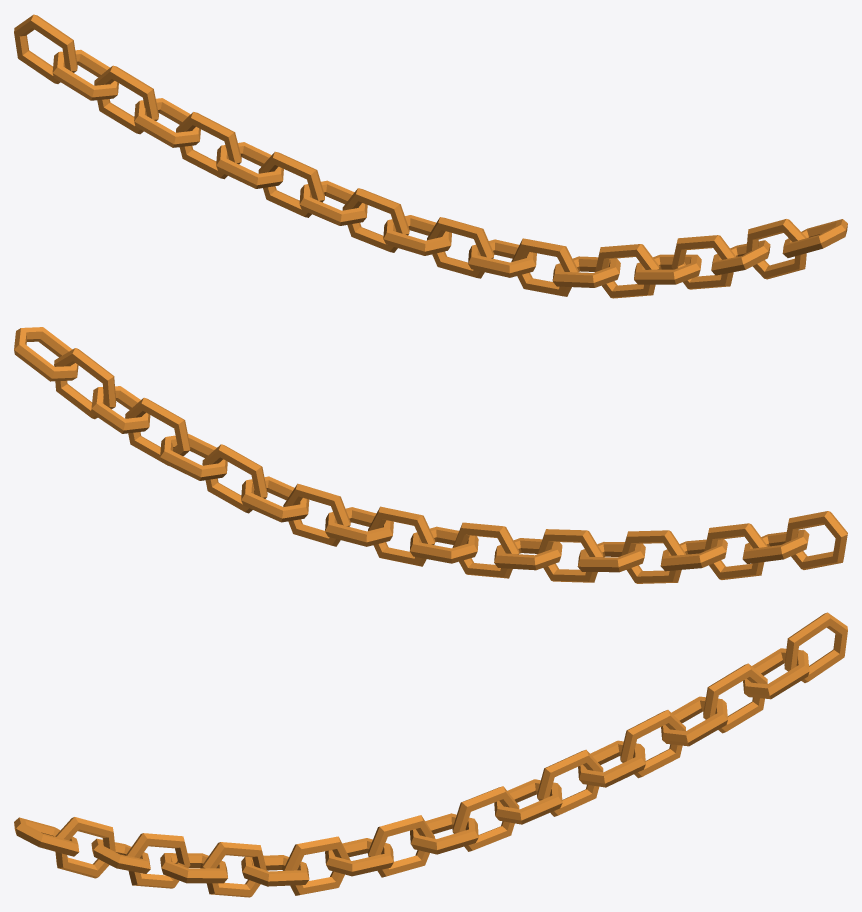
File: Cadena.fbx
3 views of the same model, one above another, from view 1: azimuth 30°, elevation 25°; view 2: azimuth 210°, elevation 25°; view 3: azimuth 270°, elevation 25° (orthographic).
Parts seen in each view (by area): view 1: CadenasGigantes; view 2: CadenasGigantes; view 3: CadenasGigantes.
Boxes of the visible parts, x1=… form: CadenasGigantes: x1=14, y1=14, x2=847, y2=298; CadenasGigantes: x1=14, y1=327, x2=847, y2=583; CadenasGigantes: x1=14, y1=612, x2=847, y2=897.
Size of the model in its own units: 6000 by 2060 by 9987.
